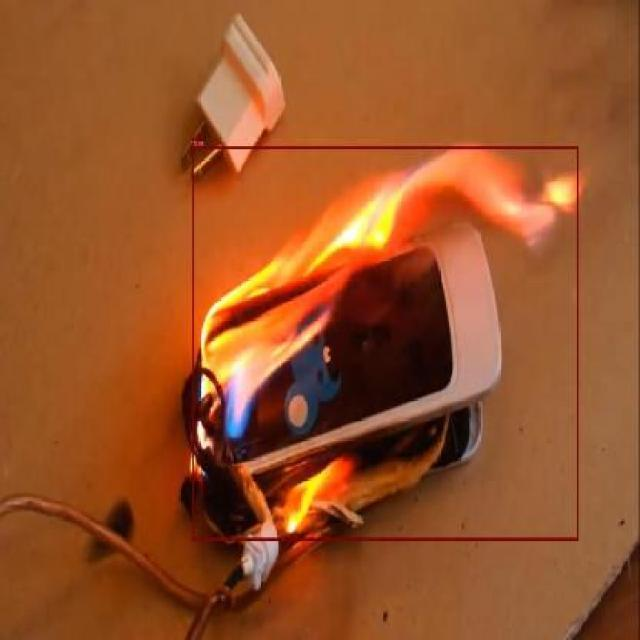Fire: (192, 146, 578, 540)
